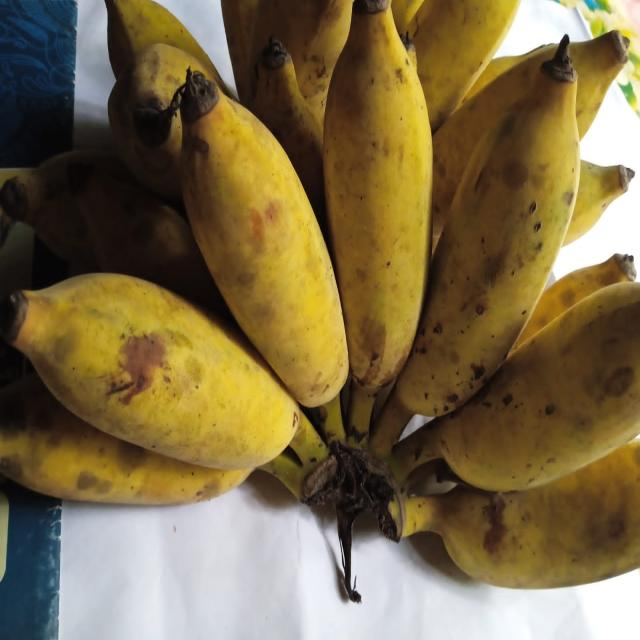banana: (371, 39, 579, 454), (0, 274, 306, 468), (181, 74, 348, 406), (392, 283, 639, 491), (324, 0, 431, 441), (403, 440, 639, 588), (0, 375, 250, 504), (69, 162, 229, 316), (433, 45, 555, 236), (0, 150, 132, 270), (251, 38, 327, 238), (108, 44, 203, 201), (409, 0, 519, 131), (249, 0, 352, 122), (105, 0, 230, 95), (513, 254, 636, 348), (564, 160, 634, 245), (461, 45, 553, 104), (221, 0, 258, 105), (391, 0, 435, 35), (400, 34, 417, 70)
